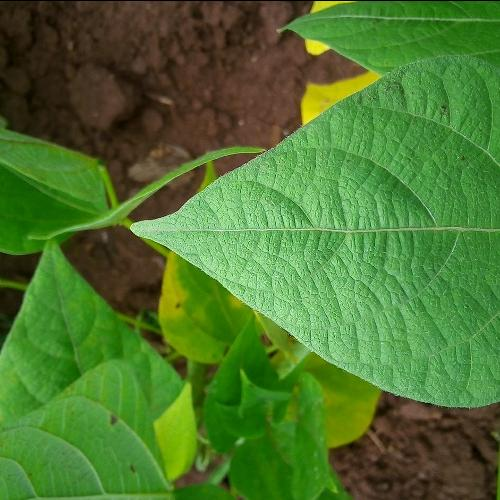sehat: (270, 149, 496, 310)
